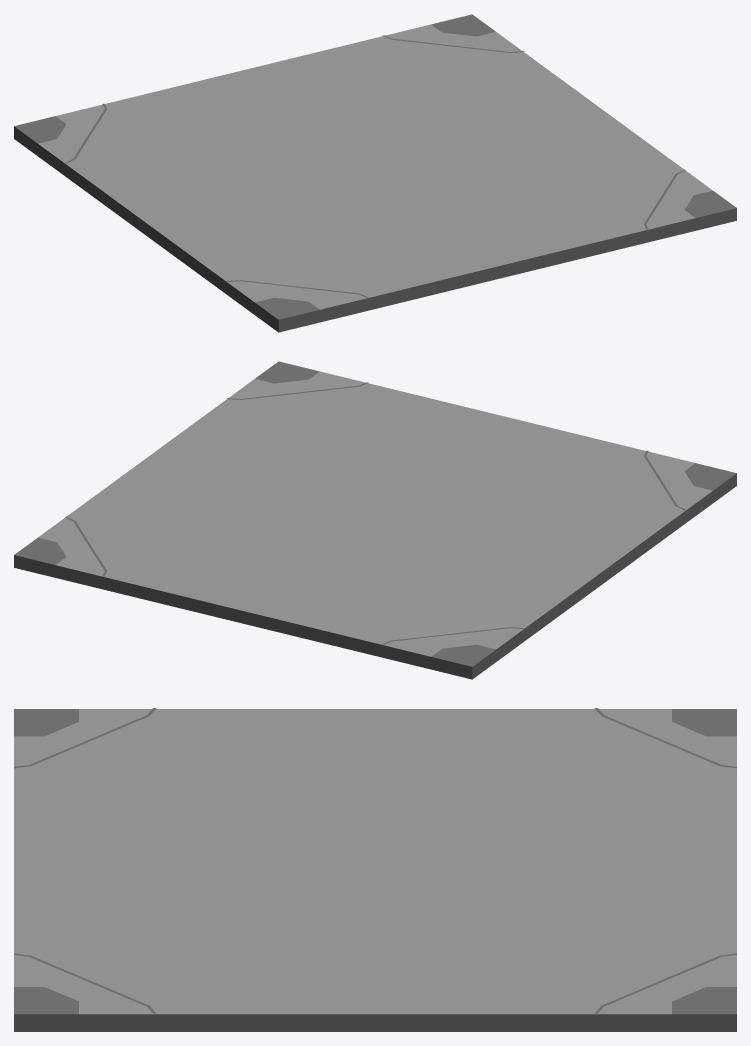
File: tile_platform_003.fbx
3 renders of one model, top to bottom at view 1: azimuth 30°, elevation 25°; view 2: azimuth 150°, elevation 25°; view 3: azimuth 270°, elevation 25°, orthographic. The views are drawn at different scales.
Visible parts, largest first — view 1: tile_platform_003; view 2: tile_platform_003; view 3: tile_platform_003.
Boxes of the visible parts, x1,y1,x2,y2 form: tile_platform_003: (14, 14, 736, 332); tile_platform_003: (14, 361, 736, 679); tile_platform_003: (14, 708, 736, 1031).
Bounding box in the file's own units: 800 × 800 × 22.12.
